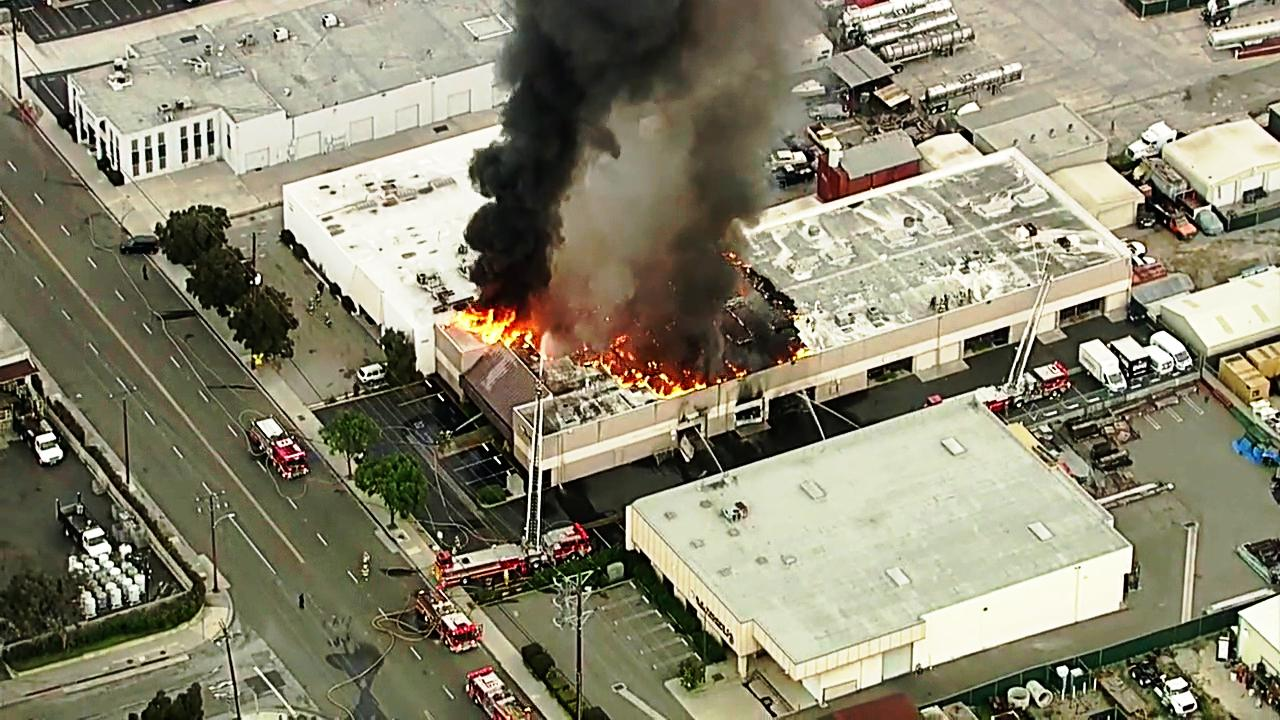fire: (459, 290, 545, 354)
smoke: (477, 0, 661, 282)
